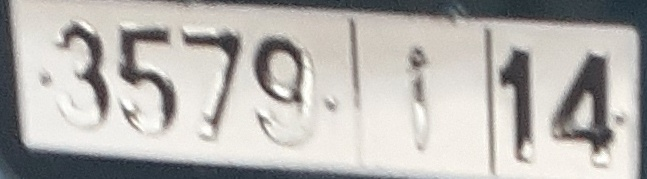1: (497, 46, 542, 168)
3: (50, 20, 111, 133)
4: (547, 50, 621, 172)
5: (113, 20, 181, 140)
7: (180, 24, 242, 140)
9: (250, 31, 321, 149)
a: (400, 43, 439, 155)
